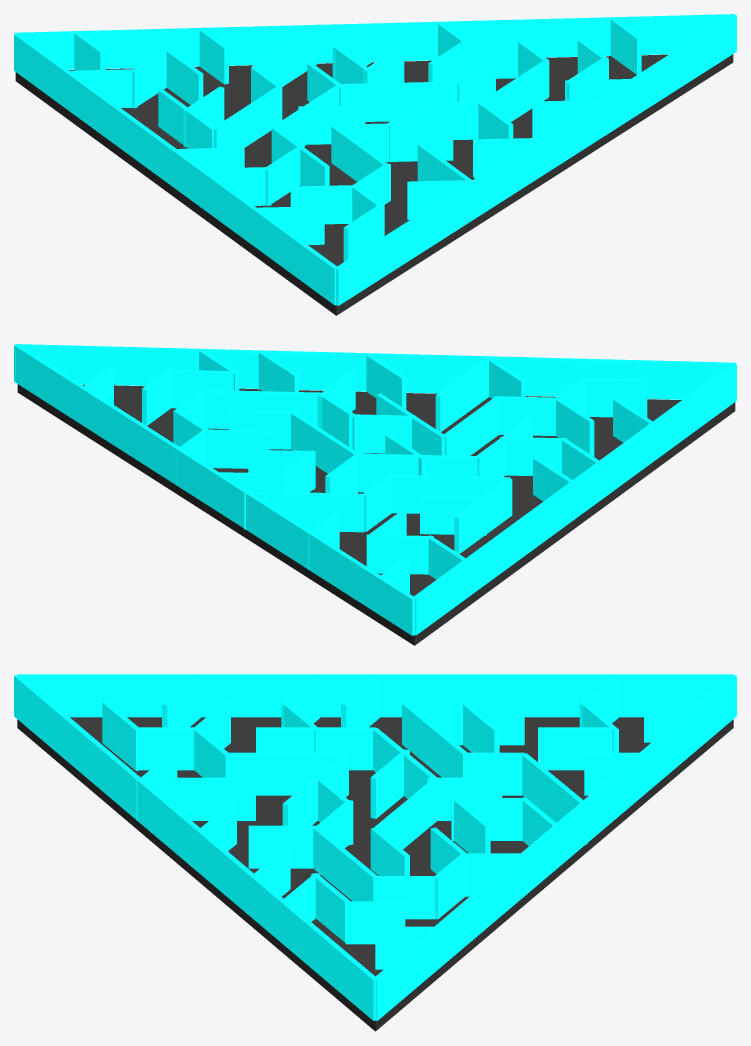
File: laberinto2.fbx
3 renders of one model, top to bottom at view 1: azimuth 30°, elevation 25°; view 2: azimuth 150°, elevation 25°; view 3: azimuth 270°, elevation 25°, orthographic. The views are drawn at different scales.
Parts seen in each view (by area): view 1: pPrism3; view 2: pPrism3; view 3: pPrism3.
Boxes of the visible parts, x1,y1,x2,y2 form: pPrism3: (14,14,736,315); pPrism3: (14,344,736,645); pPrism3: (14,674,736,1031).
Size of the model in its own units: 24.28 by 1.95 by 24.23.
